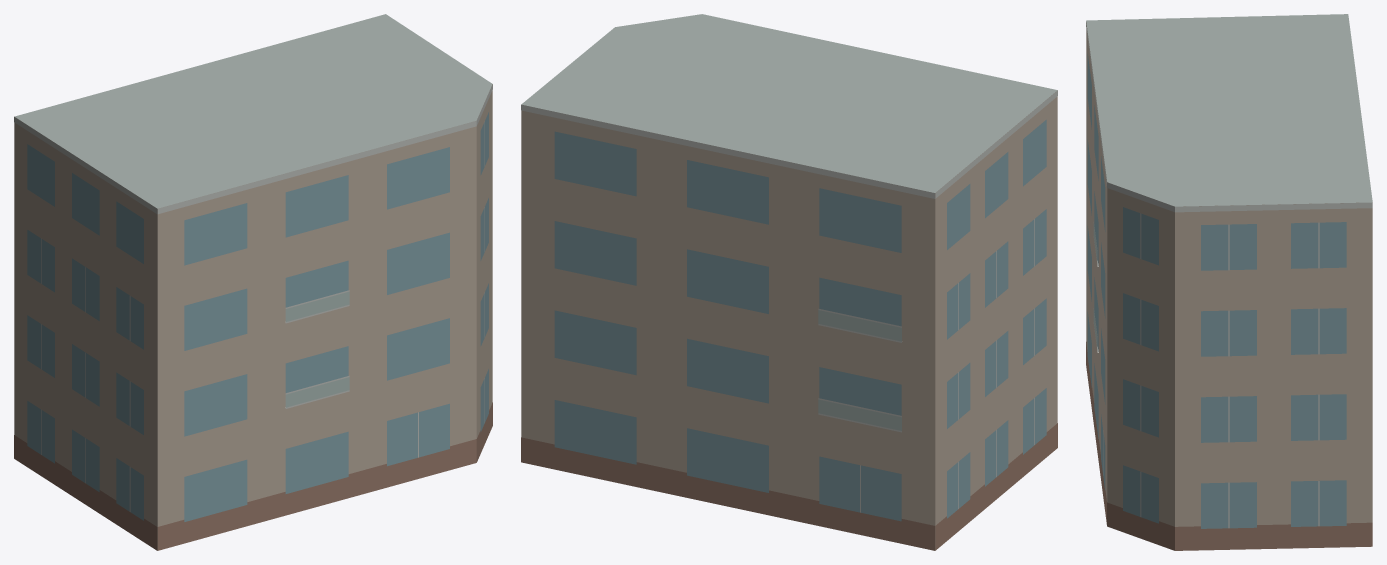
The model's file is survey-upis-32735041.glb.
3 renders of one model, left to right at view 1: azimuth 30°, elevation 25°; view 2: azimuth 150°, elevation 25°; view 3: azimuth 270°, elevation 25°, orthographic. The views are drawn at different scales.
Parts seen in each view (by area): view 1: survey-upis-32735041.tmp; view 2: survey-upis-32735041.tmp; view 3: survey-upis-32735041.tmp.
Part boxes in pixels (<box>): survey-upis-32735041.tmp: <box>14,14,492,550</box>; survey-upis-32735041.tmp: <box>521,14,1057,550</box>; survey-upis-32735041.tmp: <box>1086,14,1372,550</box>.
Size of the model in its own units: 17.65 by 14.7 by 11.1.
